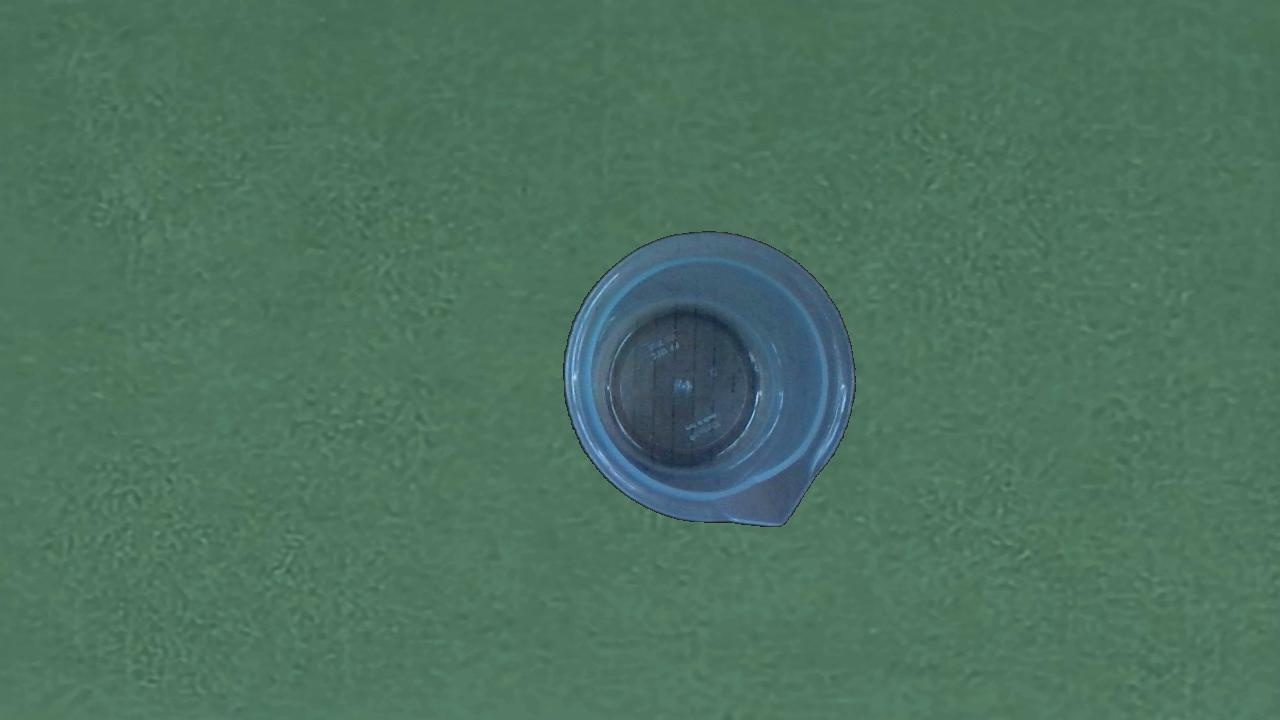cup: (563, 231, 856, 527)
